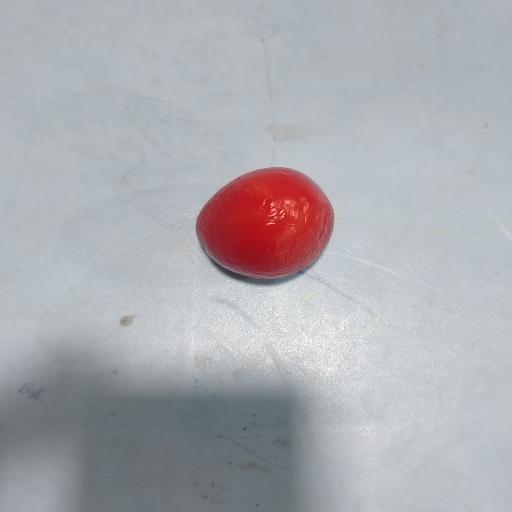spoiled: (196, 168, 334, 279)
